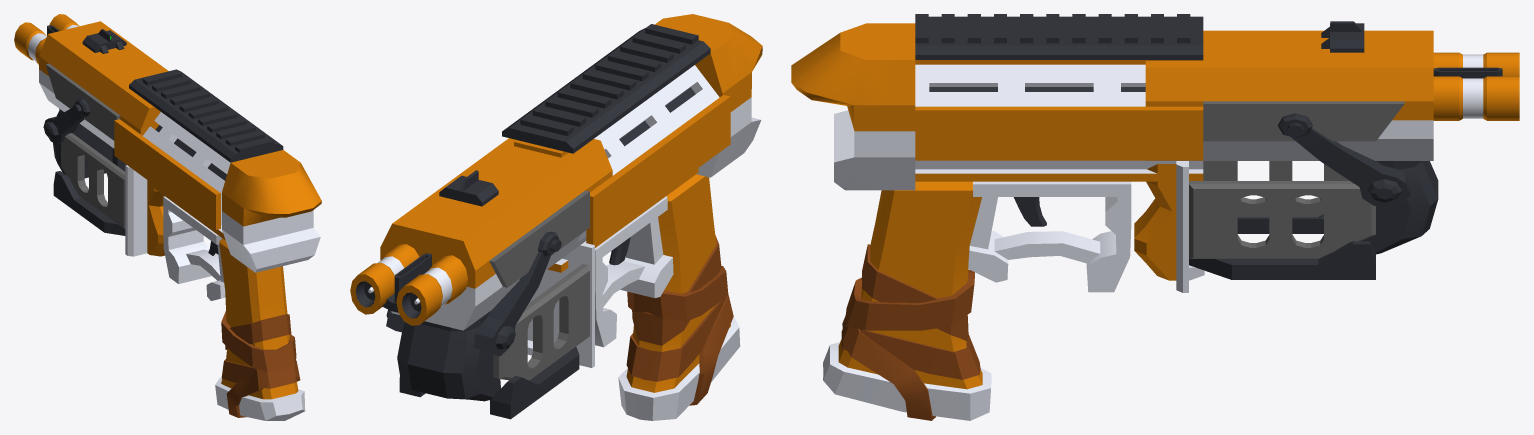
The model's file is portal_gun.glb.
3 views of the same model, side by side, from view 1: azimuth 30°, elevation 25°; view 2: azimuth 150°, elevation 25°; view 3: azimuth 270°, elevation 25° (orthographic). The views are drawn at different scales.
Visible parts, largest first — view 1: mediumBlaster_magwell_carmine, grip_trigger_carmine_bandages, mediumBlaster_front_round, handguard_coyote, rail, magazine_coyote_doubleDrum, ironsight_hercules_front; view 2: mediumBlaster_magwell_carmine, grip_trigger_carmine_bandages, handguard_coyote, rail, mediumBlaster_front_round, magazine_coyote_doubleDrum, ironsight_hercules_front; view 3: mediumBlaster_magwell_carmine, grip_trigger_carmine_bandages, handguard_coyote, mediumBlaster_front_round, rail, magazine_coyote_doubleDrum, ironsight_hercules_front.
Part boxes in pixels (x1=…): mediumBlaster_magwell_carmine: x1=39, y1=21, x2=168, y2=256; grip_trigger_carmine_bandages: x1=163, y1=196, x2=305, y2=420; mediumBlaster_front_round: x1=222, y1=150, x2=321, y2=272; handguard_coyote: x1=114, y1=112, x2=230, y2=240; rail: x1=129, y1=69, x2=283, y2=162; magazine_coyote_doubleDrum: x1=14, y1=14, x2=79, y2=64; ironsight_hercules_front: x1=82, y1=29, x2=126, y2=53; mediumBlaster_magwell_carmine: x1=380, y1=138, x2=612, y2=419; grip_trigger_carmine_bandages: x1=595, y1=174, x2=740, y2=420; handguard_coyote: x1=514, y1=65, x2=730, y2=272; rail: x1=502, y1=24, x2=710, y2=153; mediumBlaster_front_round: x1=655, y1=14, x2=762, y2=177; magazine_coyote_doubleDrum: x1=350, y1=244, x2=467, y2=325; ironsight_hercules_front: x1=439, y1=170, x2=498, y2=206; mediumBlaster_magwell_carmine: x1=1134, y1=30, x2=1438, y2=292; grip_trigger_carmine_bandages: x1=823, y1=181, x2=1131, y2=420; handguard_coyote: x1=915, y1=60, x2=1203, y2=181; mediumBlaster_front_round: x1=791, y1=23, x2=915, y2=190; rail: x1=915, y1=14, x2=1203, y2=59; magazine_coyote_doubleDrum: x1=1433, y1=52, x2=1519, y2=120; ironsight_hercules_front: x1=1321, y1=21, x2=1364, y2=52.
Bounding box in the file's own units: 0.54 × 1.5 × 2.53.
